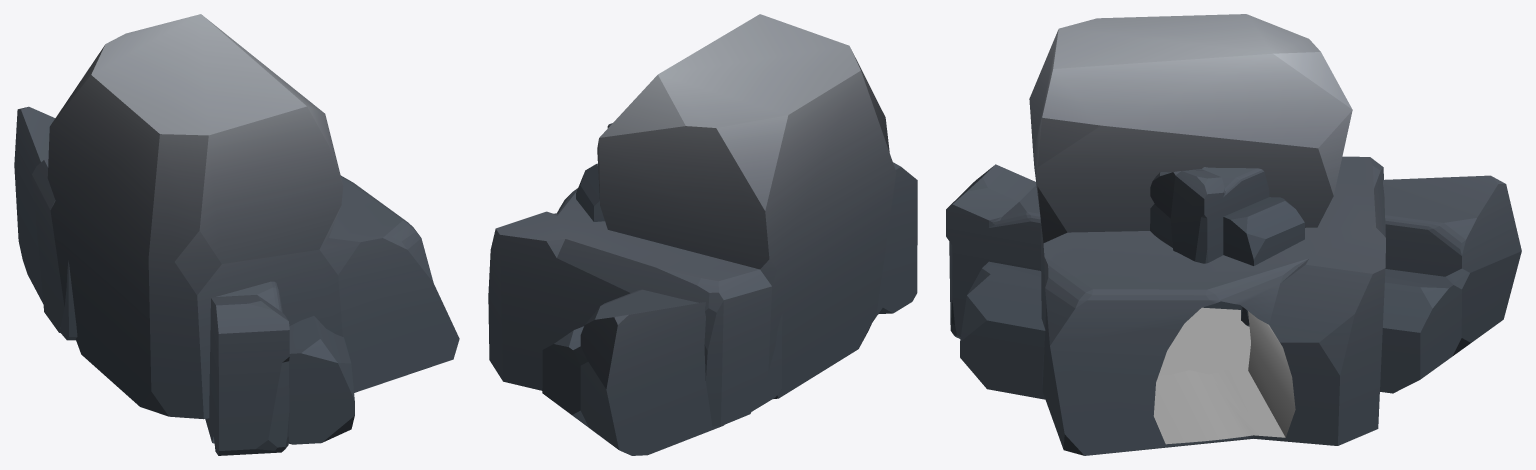
Rendered from rock_cave.fbx.
The picture shows the model from 3 angles, left to right: view 1: azimuth 30°, elevation 25°; view 2: azimuth 150°, elevation 25°; view 3: azimuth 270°, elevation 25°; orthographic projection. The views are drawn at different scales.
Visible parts, largest first — view 1: polySurface4; view 2: polySurface4; view 3: polySurface4.
Boxes of the visible parts, x1,y1,x2,y2 form: polySurface4: (14, 14, 459, 455); polySurface4: (488, 14, 917, 455); polySurface4: (946, 14, 1521, 455).
Bounding box in the file's own units: 2.93 × 2.85 × 4.51.
